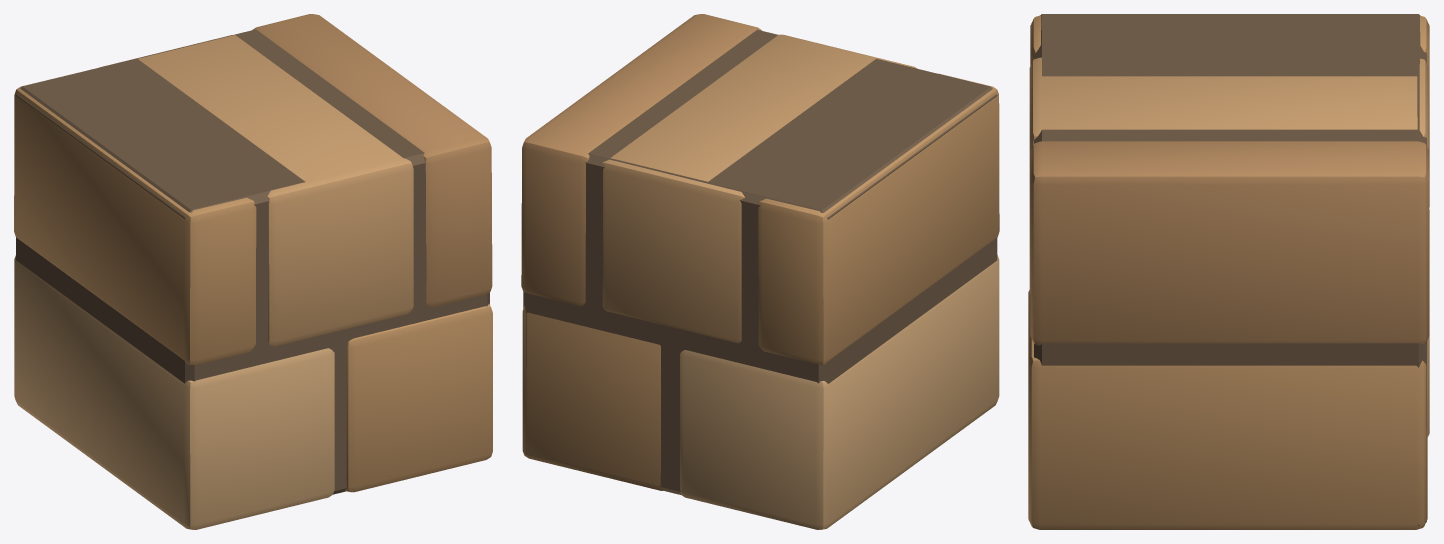
The model's file is brick_1.glb.
3 renders of one model, left to right at view 1: azimuth 30°, elevation 25°; view 2: azimuth 150°, elevation 25°; view 3: azimuth 270°, elevation 25°, orthographic. The views are drawn at different scales.
Parts seen in each view (by area): view 1: brick_1; view 2: brick_1; view 3: brick_1.
Part boxes in pixels (bbox=[...]): brick_1: bbox=[14, 14, 492, 529]; brick_1: bbox=[521, 14, 999, 529]; brick_1: bbox=[1028, 14, 1429, 529].
Bounding box in the file's own units: 0.9777 × 0.9784 × 0.9901.
